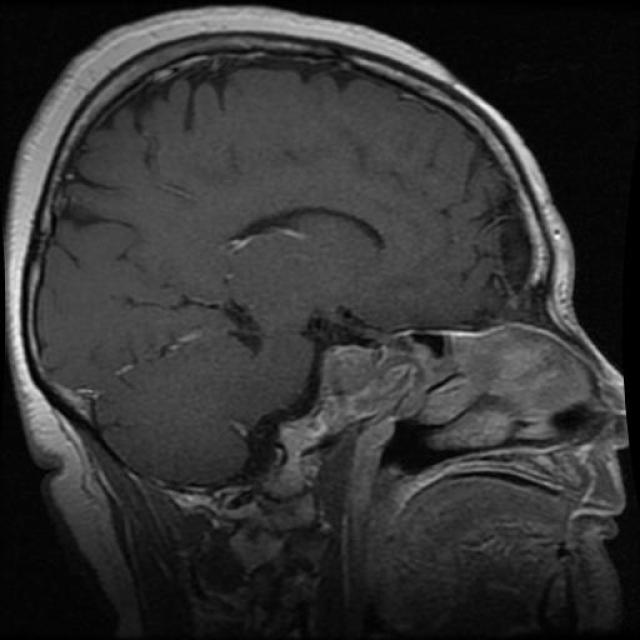pituitary: (289, 316, 408, 458)
